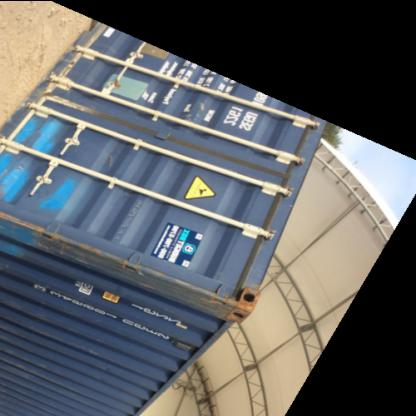Damage: (86, 245, 176, 292), (19, 209, 87, 266), (33, 82, 111, 128), (176, 284, 258, 322)
